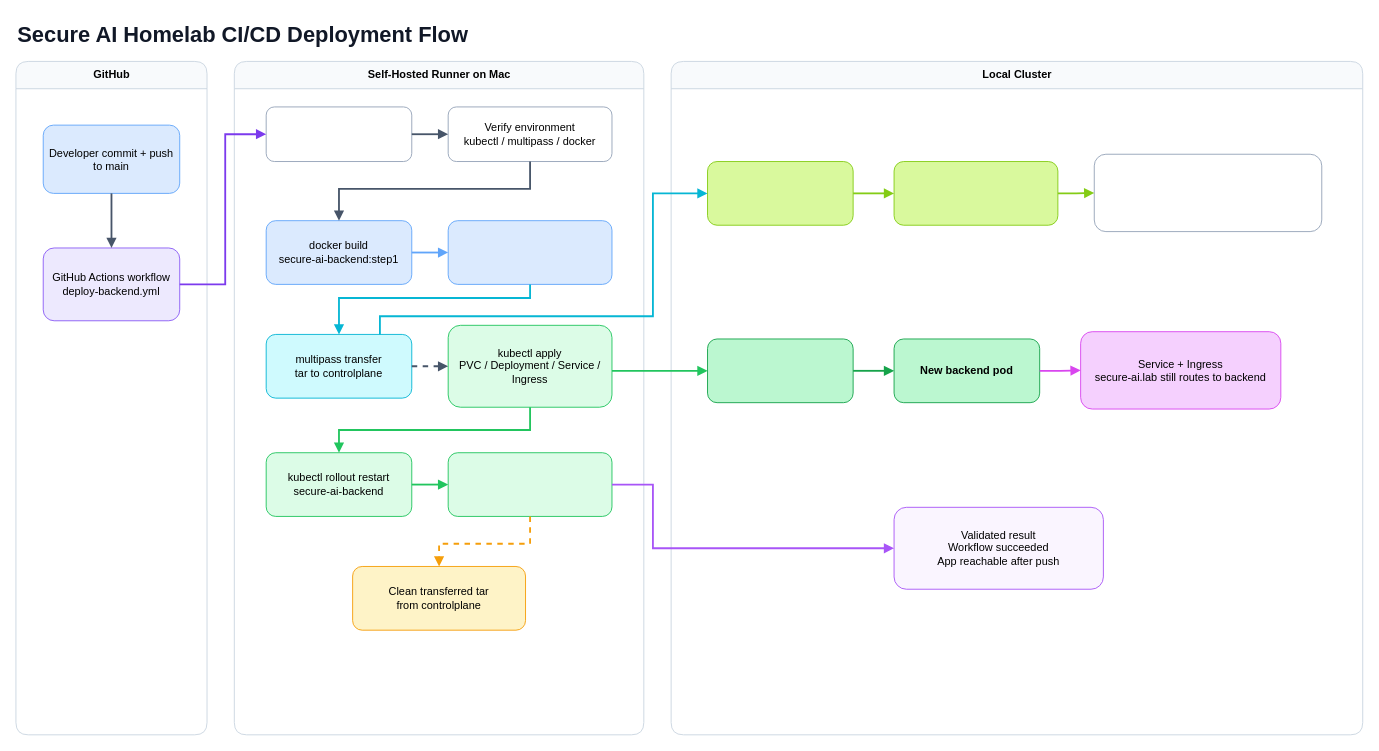
This 1379x751 diagram has some shape labels left out. The centre of each missing label's shape, as x and y in pixels:
Checkout repo: the point at 338,134
containerd image store docker.io/library/secure-ai-backend:step1: the point at 1207,192
controlplane receives tar: the point at 780,193
Deployment update: the point at 780,370
docker save secure-ai-backend-step1.tar: the point at 529,252
k3s ctr -n k8s.io images import: the point at 975,193
kubectl rollout status + pod check: the point at 529,484
